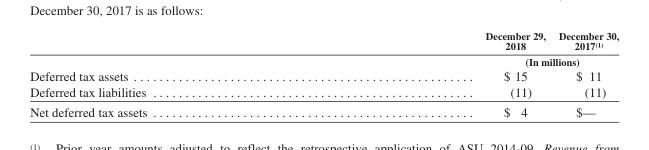table: (29, 29, 618, 119)
table column: (29, 29, 315, 119), (315, 29, 551, 119), (551, 29, 618, 119)
table column header: (29, 29, 618, 67)
table row: (29, 29, 618, 53), (29, 83, 618, 101), (29, 101, 618, 119), (29, 67, 618, 83), (29, 53, 618, 67)
table spanning cell: (315, 53, 618, 67)
